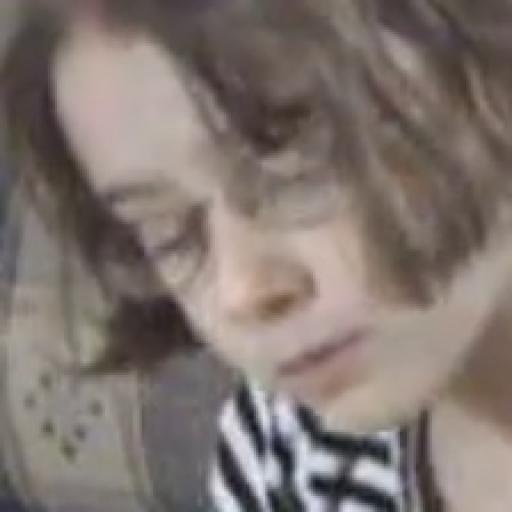Autism: (47, 23, 512, 412)
